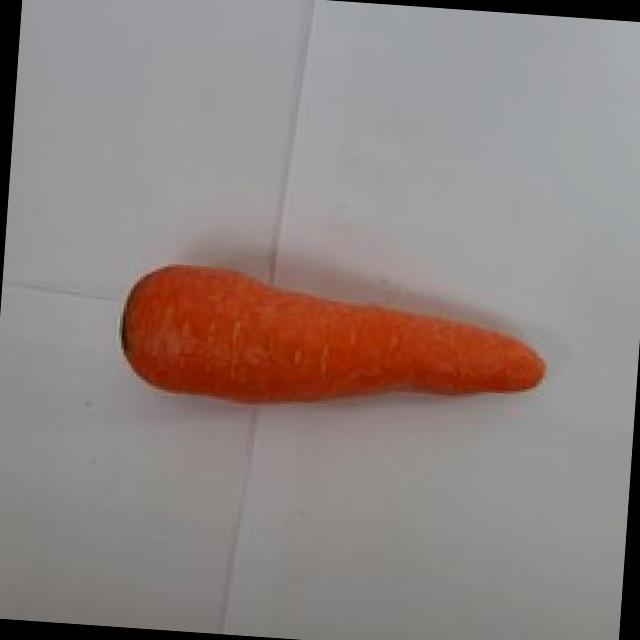carrot: (121, 265, 545, 402)
